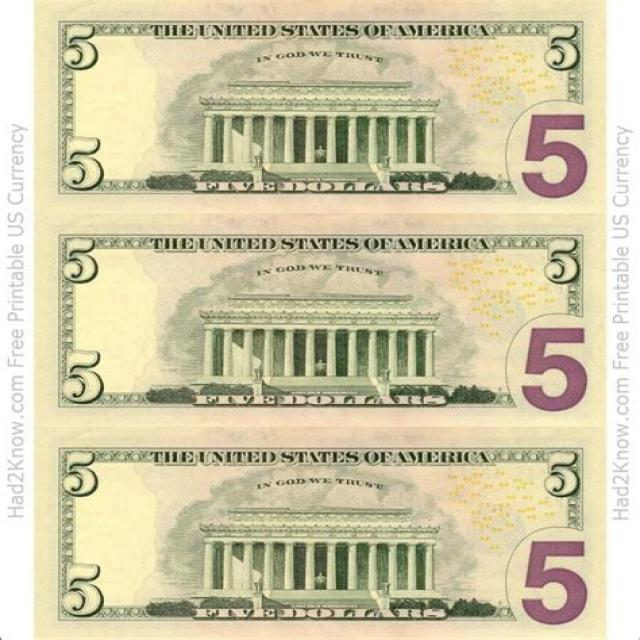Five: (30, 0, 608, 217), (32, 424, 610, 638), (36, 214, 608, 428)
